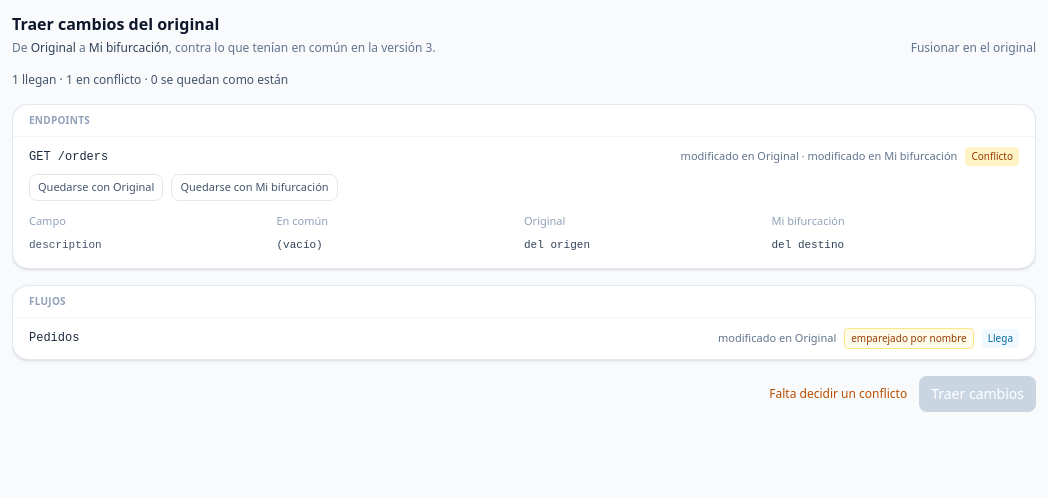
Test: ForkSyncPage › un conflicto bloquea el botón hasta que se elige un lado, y se manda la huella y la decisión
This screenshot has width=1048, height=497.
Check: the button "Traer cambios" is disabled, box top-left (919, 376), bottom-right (1036, 412)
Check: the text "Falta decidir un conflicto" is shown, box top-left (769, 386), bottom-right (907, 402)
Step 1. Click the radio button labelled "Quedarse con Mi bifurcación" → click(254, 187), box top-left (171, 174), bottom-right (338, 200)
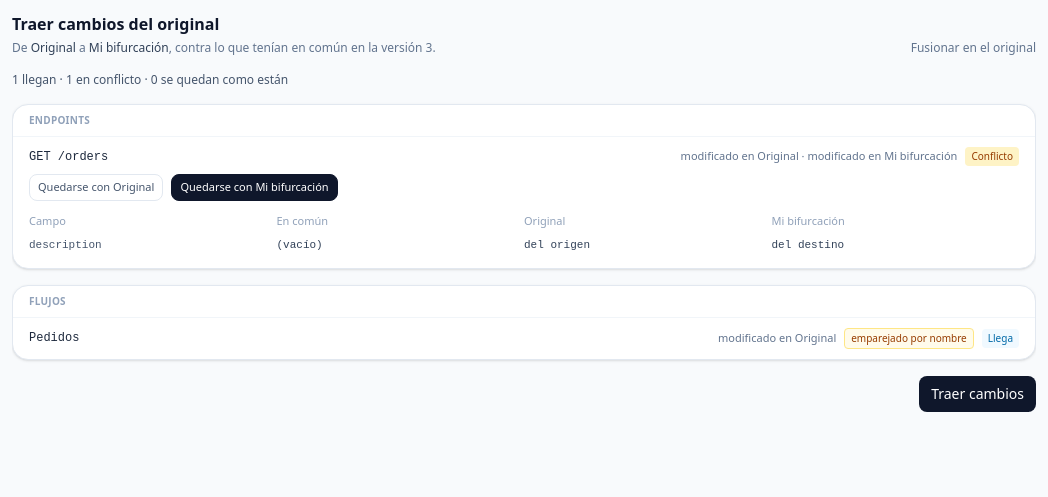
Check: the button "Traer cambios" is enabled
Step 2. Click the button "Traer cambios" → click(978, 394), box top-left (919, 376), bottom-right (1036, 412)
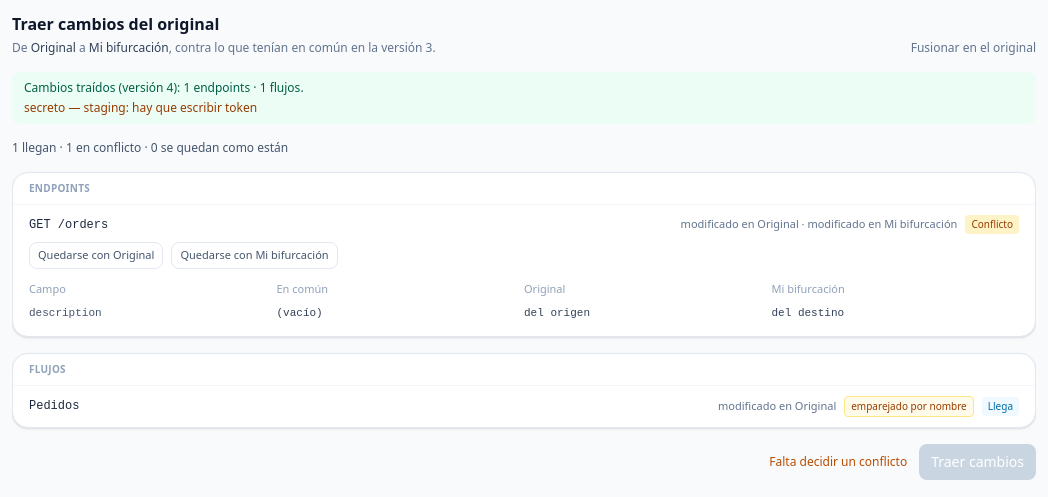
Check: the text "Cambios traídos (versión 4): 1 endpoints · 1 flujos." is shown, box top-left (24, 79), bottom-right (304, 96)
Check: the list item "secreto — staging: hay que escribir token" is shown, box top-left (24, 99), bottom-right (257, 116)
